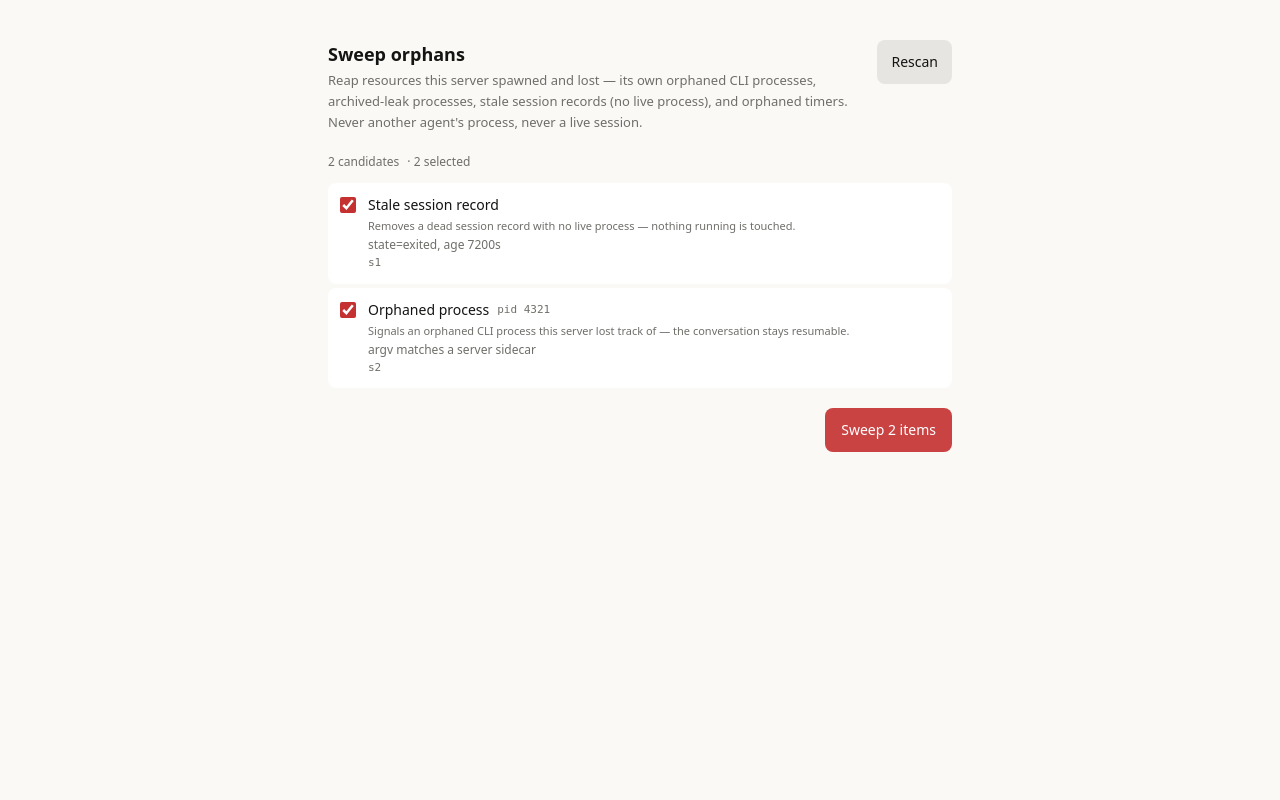
SweepPage render & accessibility › the executed receipt (with skipped>0) passes an axe scan
The image size is (1280, 800).
Click the button "Sweep 2 items": (889, 430) [825, 408, 952, 452]
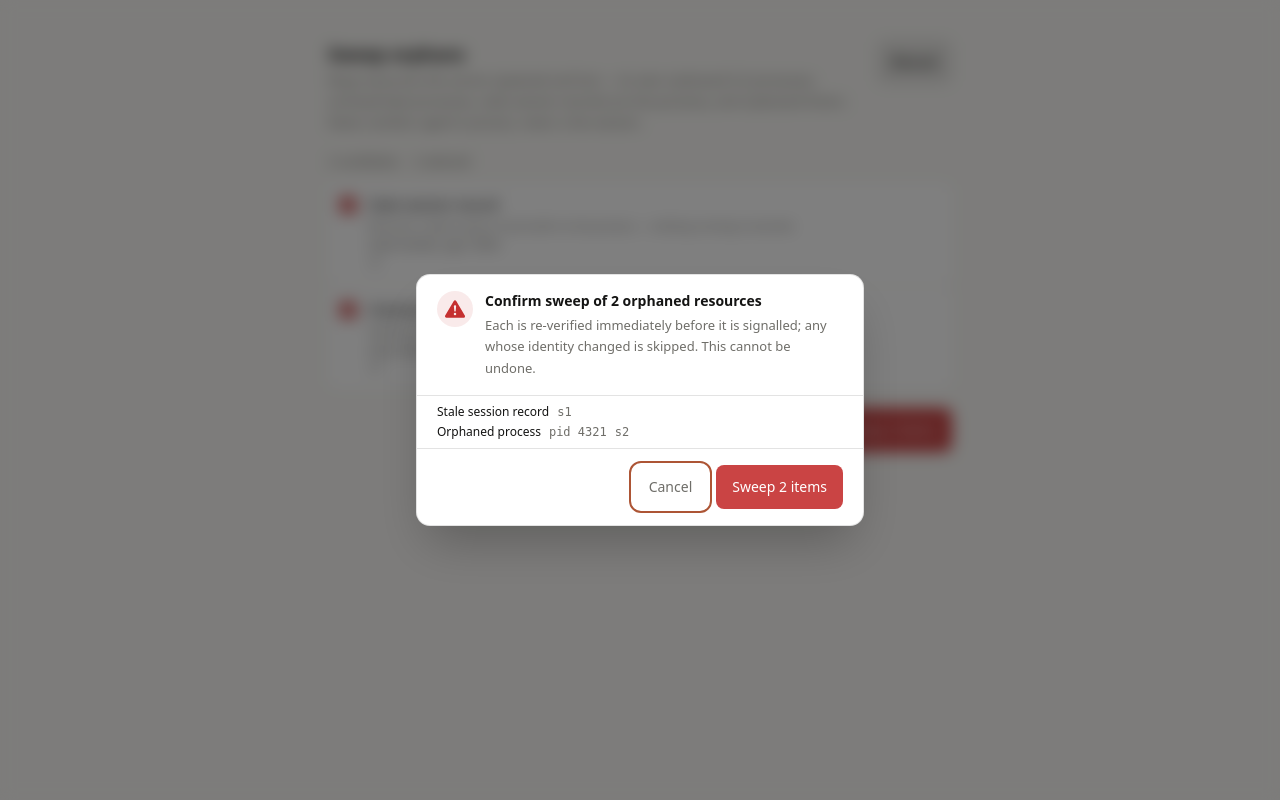
Click the button "Sweep 2 items": (780, 487) [716, 465, 843, 509]
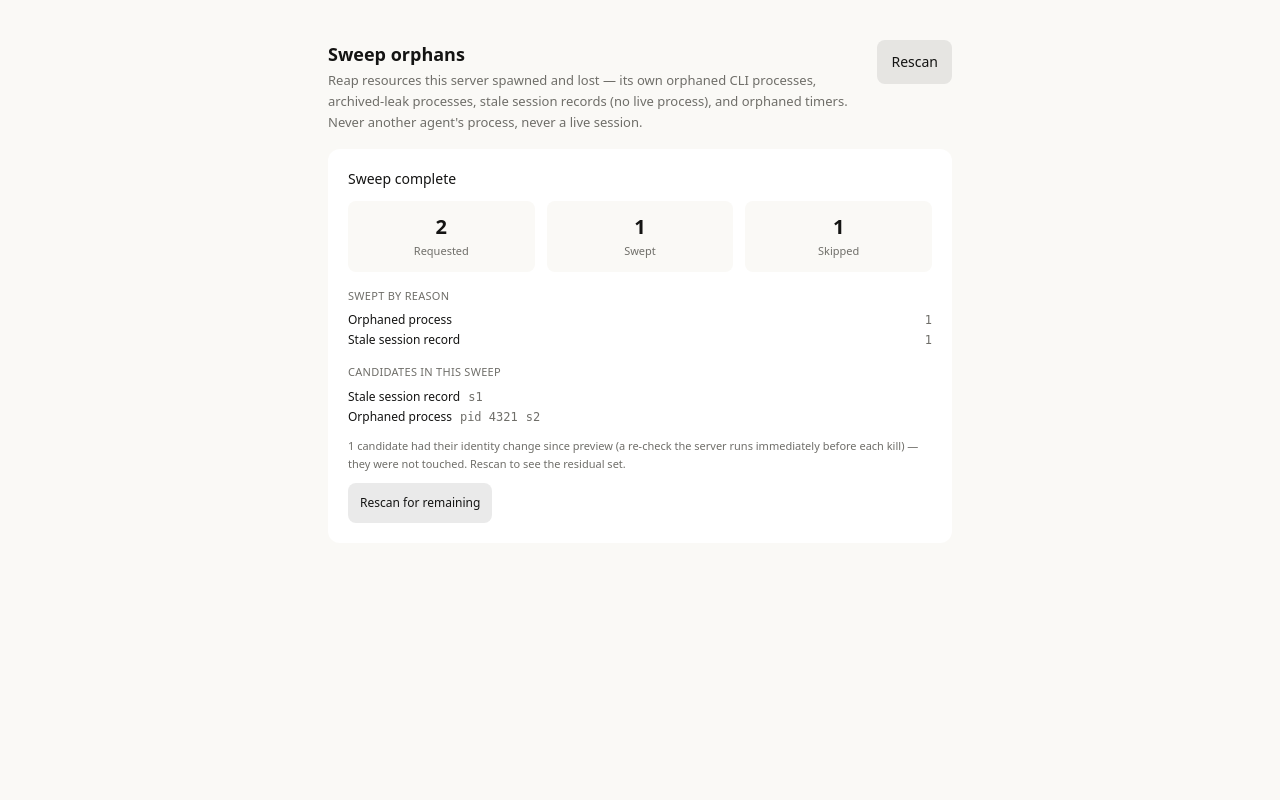
Expected: the text "Sweep complete" is shown, [348, 169, 456, 188]
